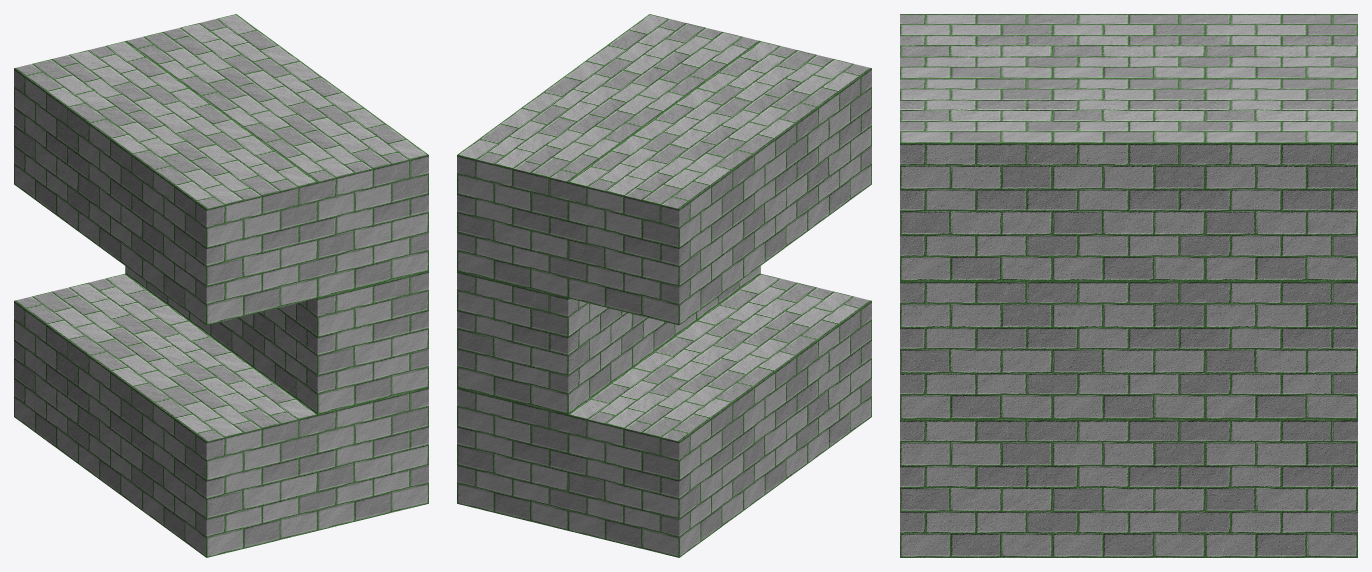
The model's file is C-Platform.fbx.
The picture shows the model from 3 angles, left to right: view 1: azimuth 30°, elevation 25°; view 2: azimuth 150°, elevation 25°; view 3: azimuth 270°, elevation 25°; orthographic projection. The views are drawn at different scales.
Visible parts, largest first — view 1: Cube.002; view 2: Cube.002; view 3: Cube.002.
Boxes of the visible parts, box(x1,y1,x2,y2) form: Cube.002: box(14, 14, 428, 557); Cube.002: box(457, 14, 871, 557); Cube.002: box(900, 14, 1357, 557).
Size of the model in its own units: 400 by 600 by 600.
